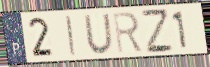1: (171, 9, 188, 50)
2: (27, 16, 55, 58)
I: (64, 14, 78, 57)
R: (111, 10, 145, 55)
U: (82, 12, 116, 56)
Z: (139, 8, 176, 55)
